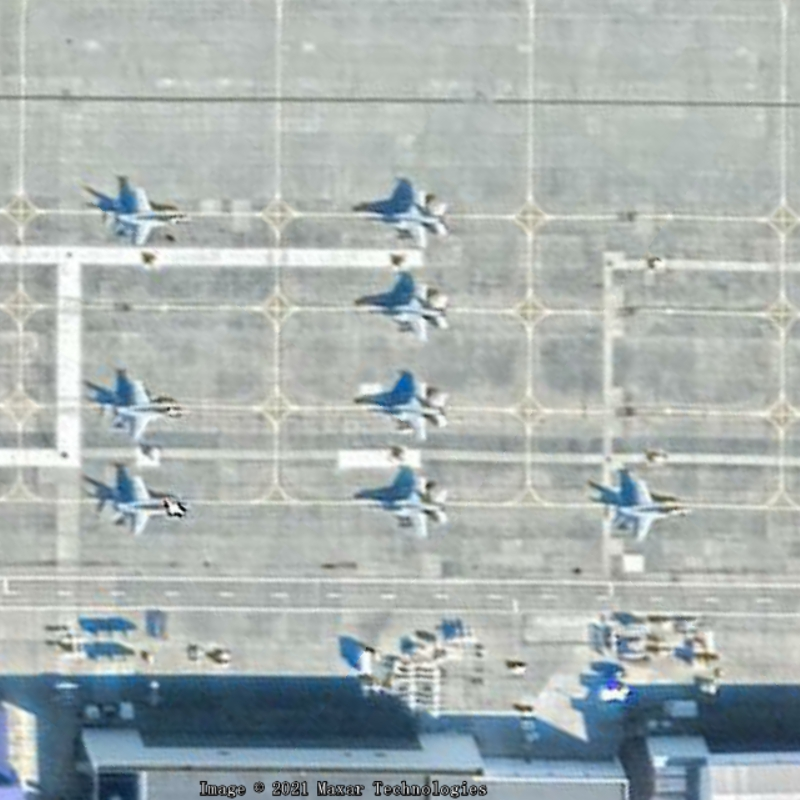A16: (95, 365, 194, 448), (88, 176, 194, 253), (350, 272, 459, 344), (354, 467, 456, 543), (353, 180, 455, 255), (93, 465, 192, 542), (602, 466, 693, 545), (359, 370, 452, 441)
